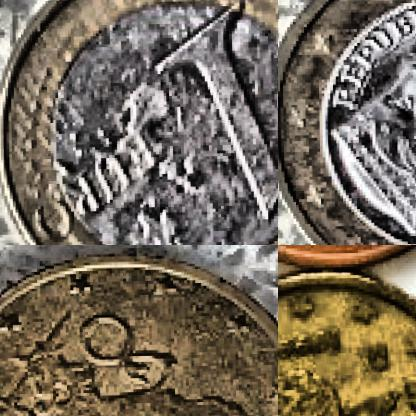coin: (0, 0, 277, 244), (0, 252, 277, 415), (278, 0, 415, 244), (278, 266, 415, 415)
